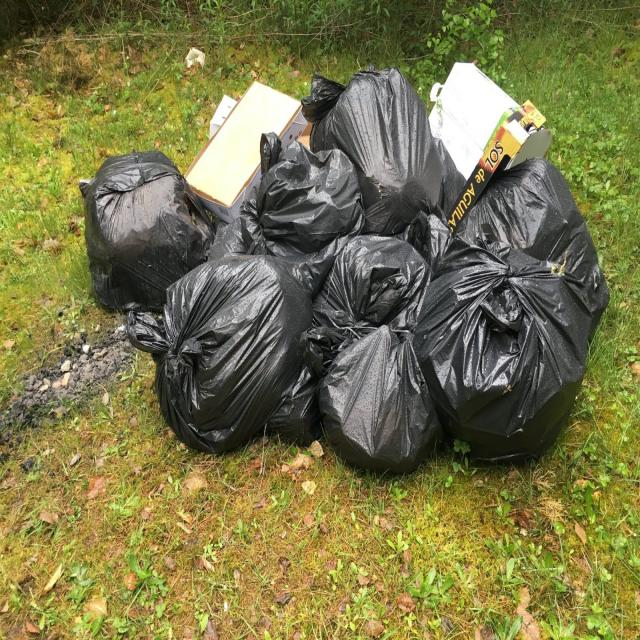garbage: (48, 50, 615, 473)
